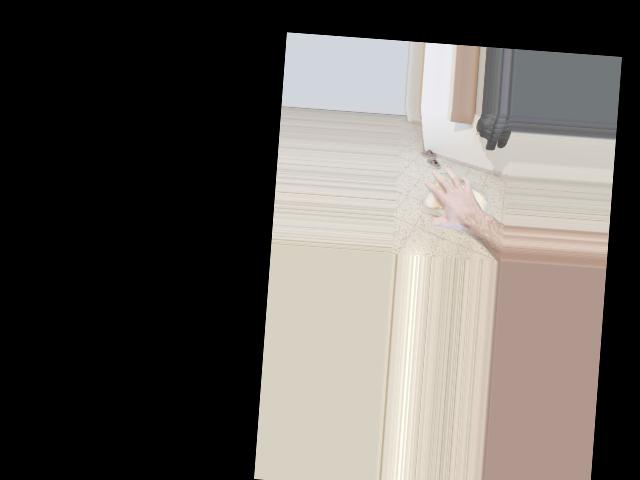cheese: (420, 167, 490, 236)
